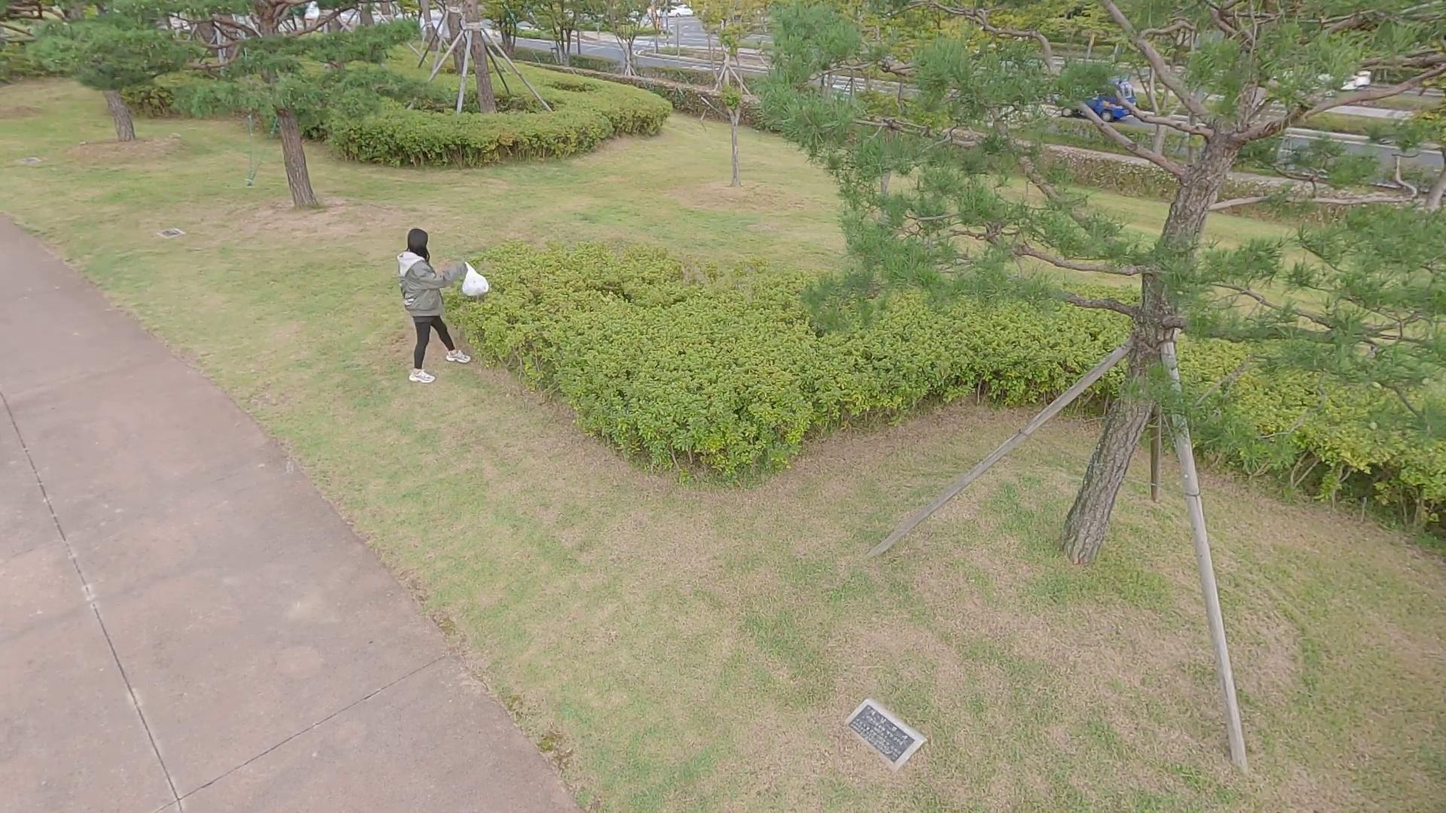person: (390, 225, 484, 392)
trash: (455, 253, 497, 303)
